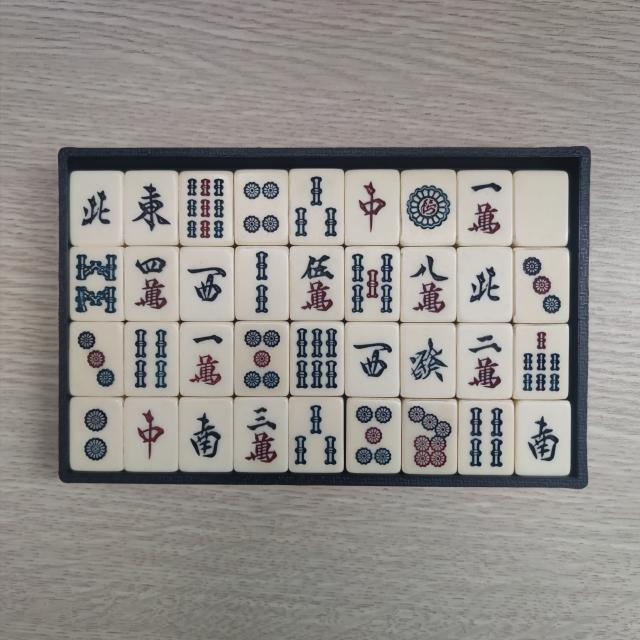hdg: (406, 328, 451, 393)
hdr: (350, 175, 392, 241), (130, 403, 172, 466)
hdw: (522, 176, 564, 242)
hwe: (128, 175, 173, 238)
hwn: (465, 253, 509, 318), (74, 176, 116, 239)
hws: (521, 406, 564, 471), (184, 403, 226, 465)
hww: (184, 253, 230, 317), (351, 328, 396, 393)
sb2: (241, 250, 286, 316)
sb3: (293, 175, 340, 242), (292, 404, 338, 472)
sb4: (464, 406, 508, 472), (129, 327, 173, 392)
sb5: (349, 252, 396, 320)
sb6: (296, 327, 342, 392)
sb7: (518, 329, 563, 396)
sb8: (74, 250, 121, 316)
sb9: (184, 174, 228, 240)
sc1: (462, 176, 506, 240), (186, 328, 229, 391)
sc2: (464, 327, 509, 393)
sc3: (240, 402, 284, 467)
sc4: (128, 252, 173, 318)
sc5: (295, 251, 340, 317)
sc8: (406, 252, 453, 318)
sd1: (404, 174, 452, 242)
sd2: (76, 403, 118, 467)
sd3: (520, 252, 566, 318), (75, 326, 120, 392)
sd4: (238, 176, 284, 242)
sd5: (242, 326, 286, 392), (351, 402, 394, 468)
sd7: (406, 404, 454, 470)
